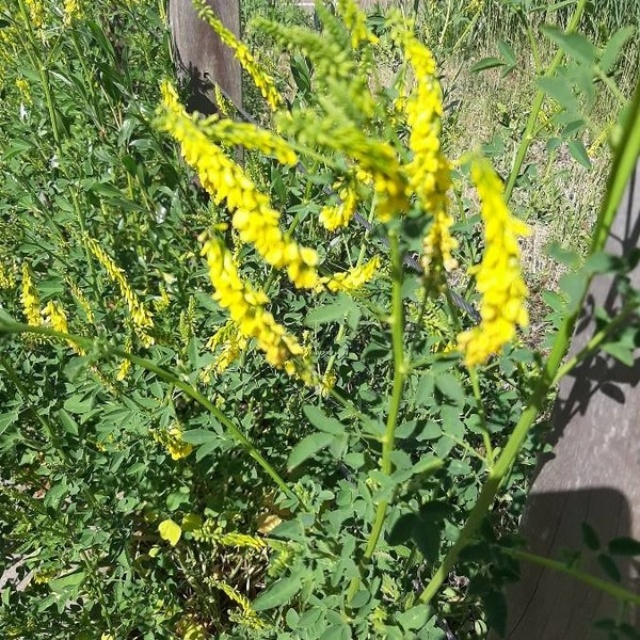obstacle: (137, 54, 530, 443)
